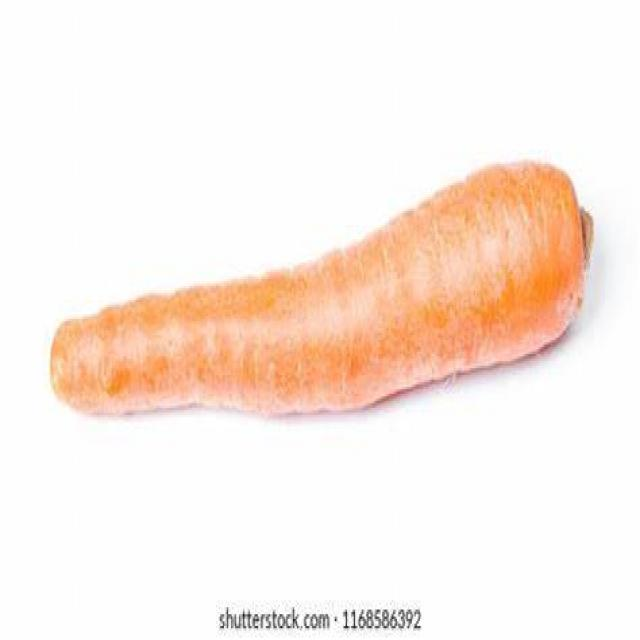Carrot: (49, 160, 598, 436)
